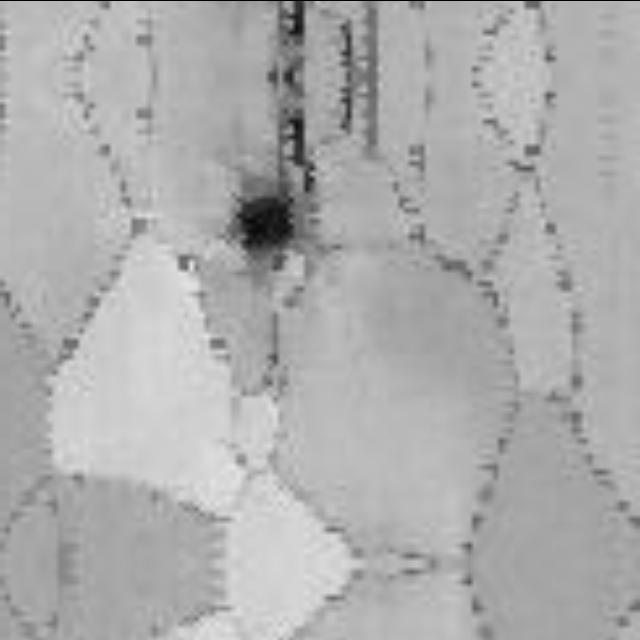good_void: (213, 100, 345, 282)
